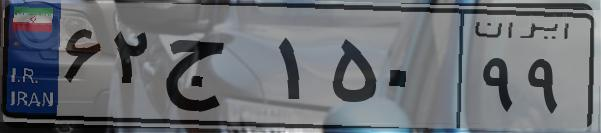0: (385, 28, 445, 110)
1: (270, 28, 330, 110)
2: (110, 28, 158, 98)
5: (330, 28, 385, 110)
6: (57, 26, 110, 100)
9: (475, 38, 525, 113), (525, 38, 570, 115)
ج: (158, 20, 270, 120)
